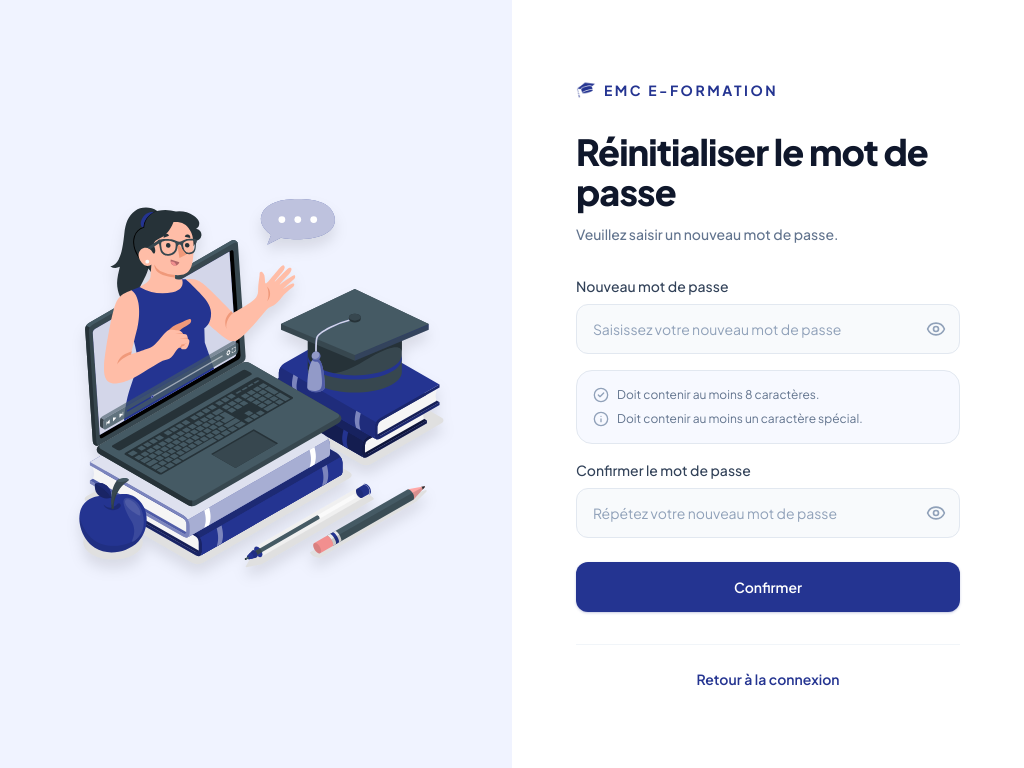
Intégration — authentification › réinitialise le mot de passe puis redirige vers la connexion
Type "Nouveau#Pass1" into the password field with placeholder "Saisissez votre nouveau mot de passe".
click(768, 328); type("Nouveau#Pass1")  # box [576,304,960,354]
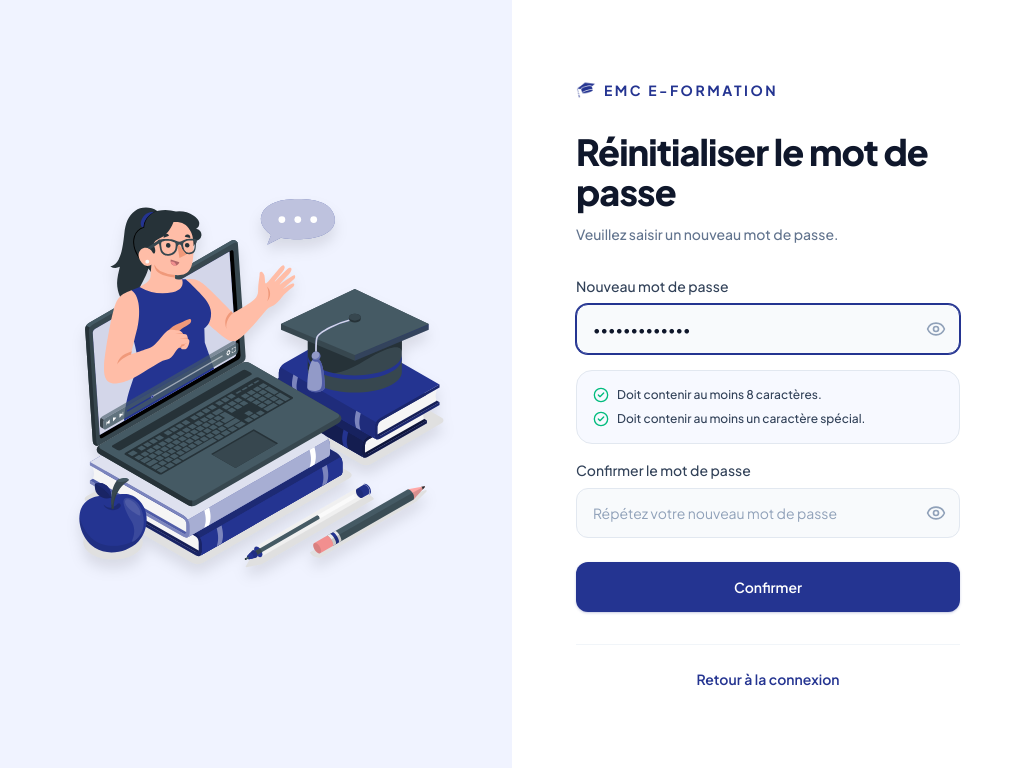
Type "Nouveau#Pass1" into the password field with placeholder "Répétez votre nouveau mot de passe".
click(768, 512); type("Nouveau#Pass1")  # box [576,488,960,538]
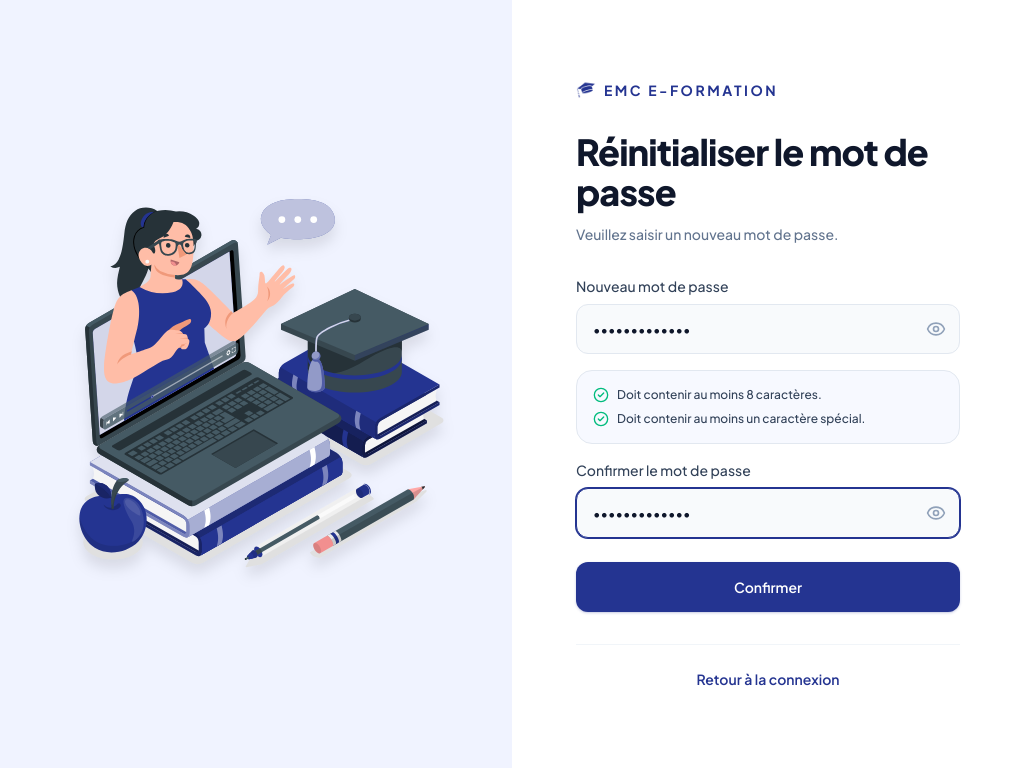
Click the button "Confirmer".
click(768, 586)  # box [576,562,960,612]
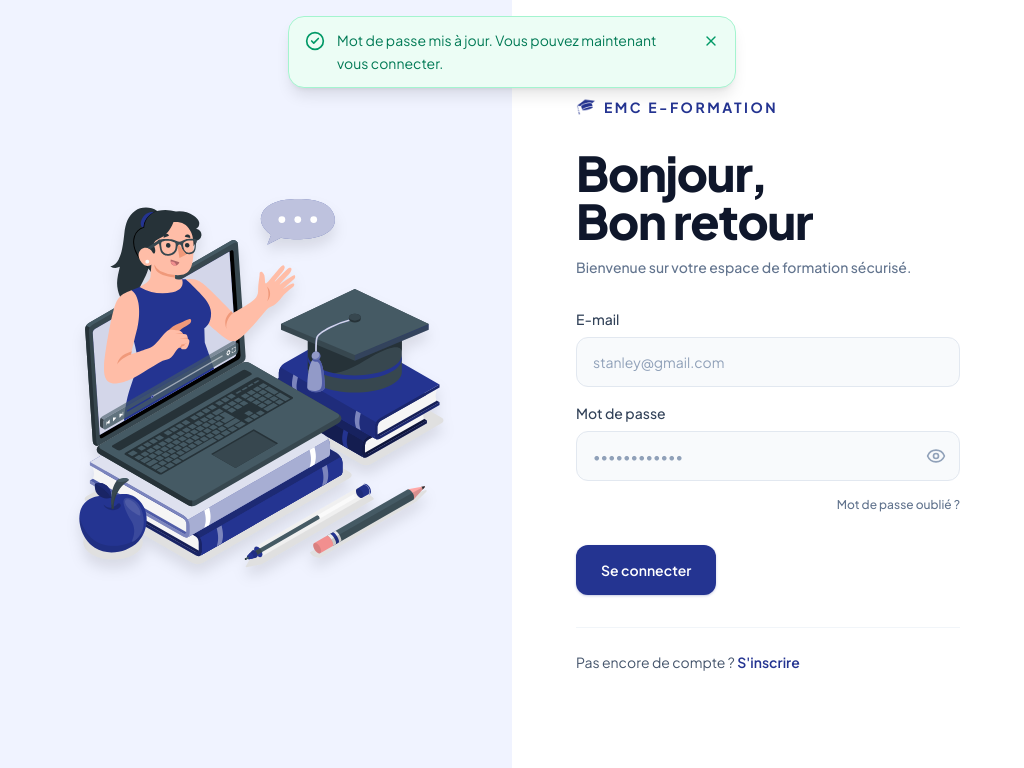
expect the text "Mot de passe mis à jour. Vous pouvez maintenant vous connecter." is shown: met, box [337,29,687,74]
expect the heading "Bonjour,Bon retour" is shown: met, box [576,142,812,250]
